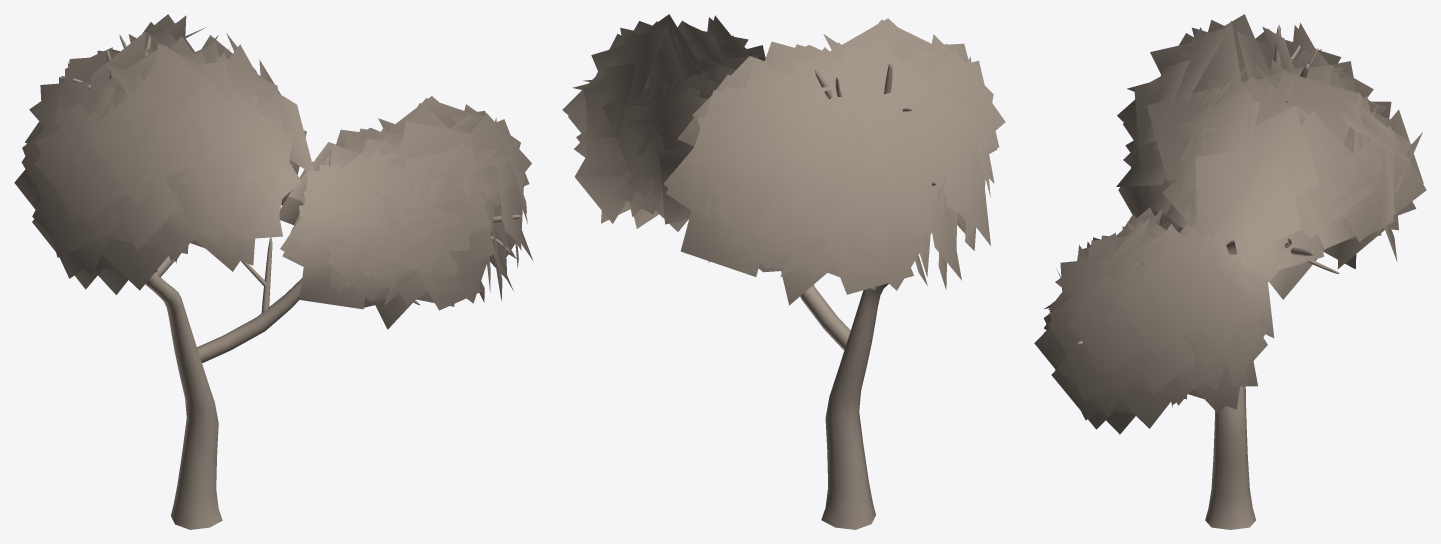
Rendered from MapleTree_1.glb.
3 views of the same model, side by side, from view 1: azimuth 30°, elevation 25°; view 2: azimuth 150°, elevation 25°; view 3: azimuth 270°, elevation 25° (orthographic). The views are drawn at different scales.
Parts seen in each view (by area): view 1: MapleTree_Leaves, MapleTree_Bark; view 2: MapleTree_Leaves, MapleTree_Bark; view 3: MapleTree_Leaves, MapleTree_Bark.
Part boxes in pixels (left/top/right/bottom): MapleTree_Leaves: left=14, top=14, right=533, bottom=329; MapleTree_Bark: left=61, top=35, right=521, bottom=529; MapleTree_Leaves: left=562, top=14, right=1005, bottom=305; MapleTree_Bark: left=800, top=61, right=936, bottom=529; MapleTree_Leaves: left=1034, top=14, right=1426, bottom=434; MapleTree_Bark: left=1076, top=25, right=1339, bottom=529.
Bounding box in the file's own units: 6.23 × 6.64 × 4.9.
